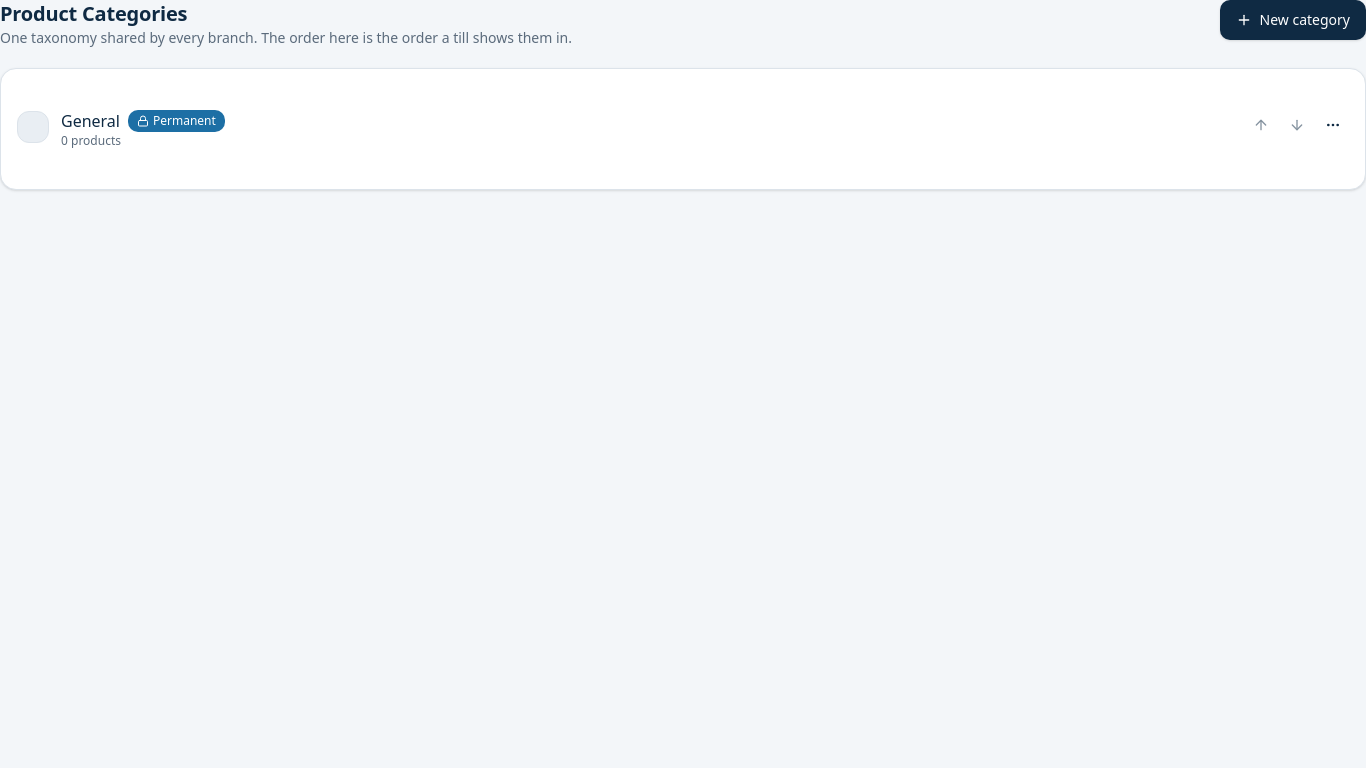
Test: the category dialog › does not greet an empty new-category form with an error
The width and height of the screenshot is (1366, 768).
Click the button "New category" at [1293, 20], box left=1220, top=0, right=1365, bottom=40
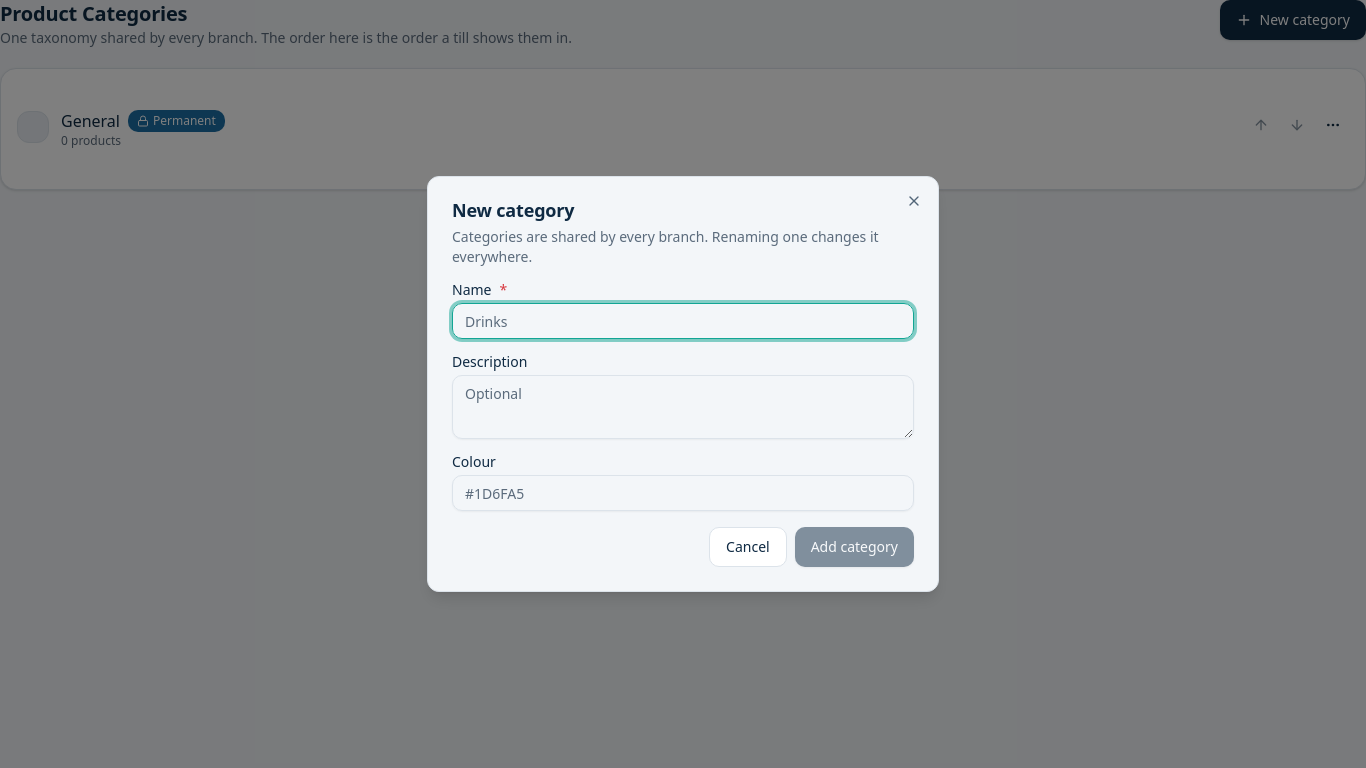
Expected: the text "A category needs a name." is not shown
Now the button "Add category" is disabled, box left=795, top=527, right=914, bottom=567
# And it appears the moment they type something and clear it again.
Type "x" into the field labelled "Name *" at [683, 321], box left=452, top=303, right=914, bottom=339
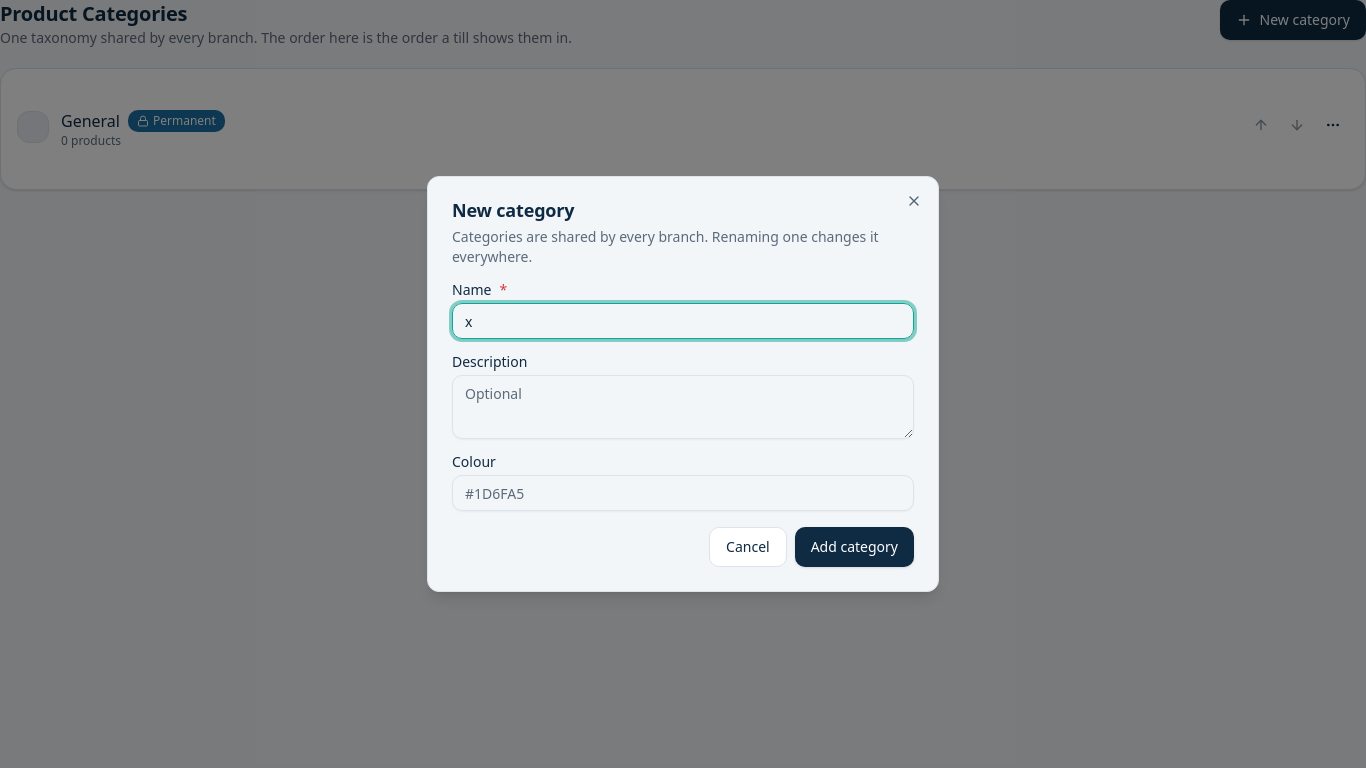
Clear the field labelled "Name *" at [683, 321], box left=452, top=303, right=914, bottom=339
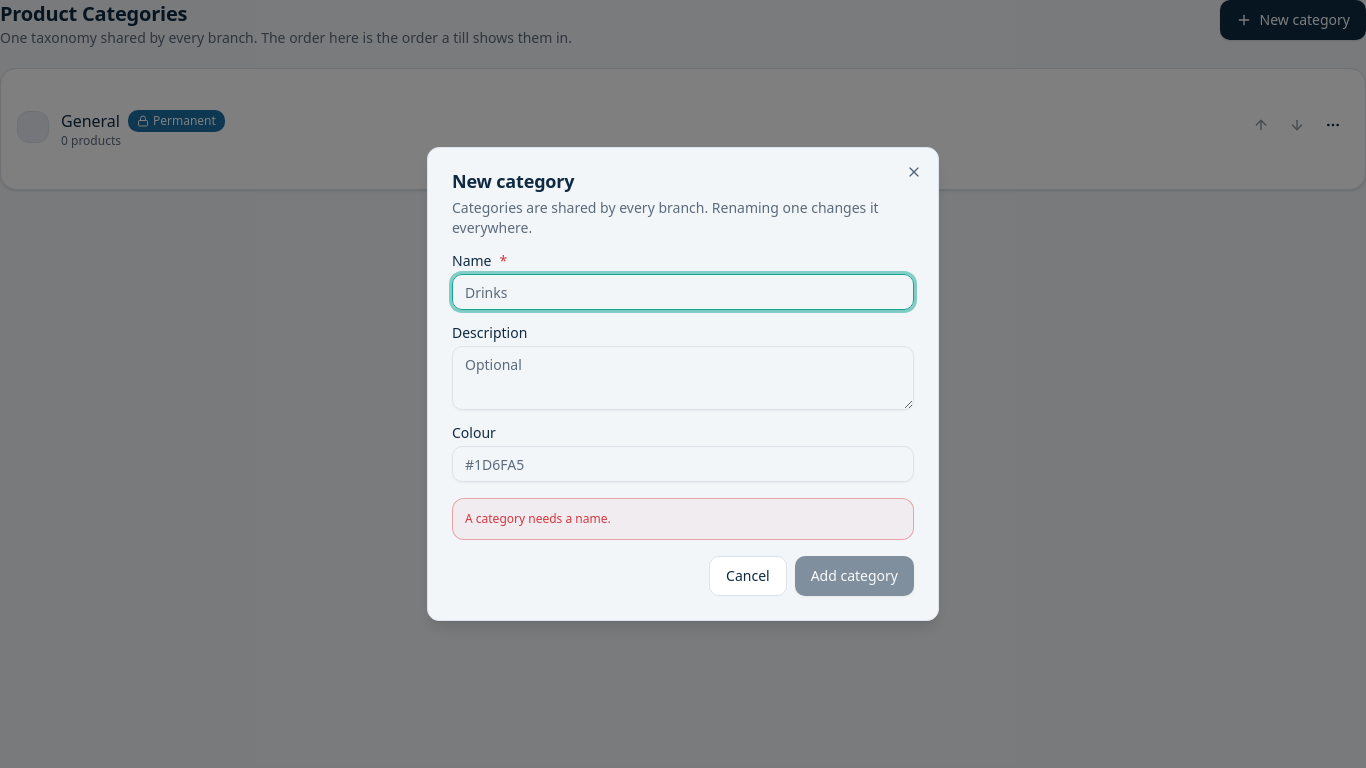
Now the list item "A category needs a name." is shown, box left=465, top=510, right=611, bottom=527
